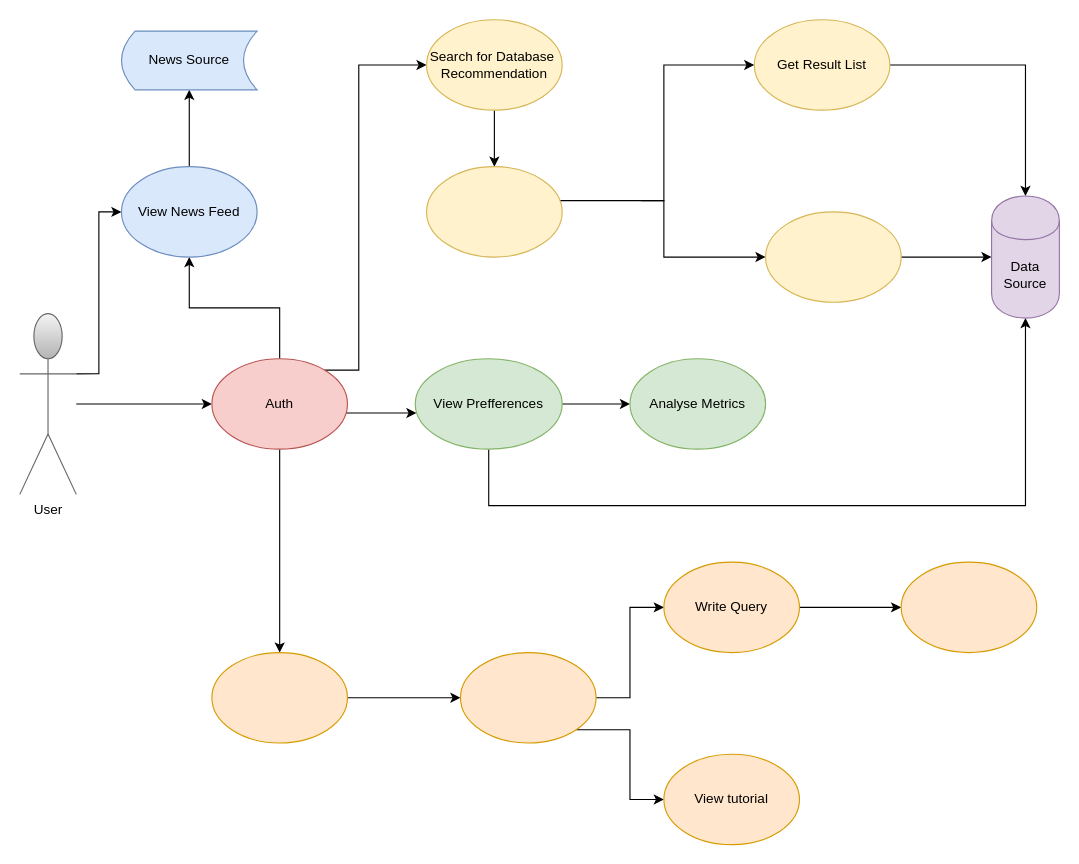
This 1079x864 diagram has some shape labels left out. The centre of each missing label's shape, as x and y in pixels:
"Analyse result" goes at point (968, 607).
"Choose Database" goes at point (527, 697).
"Compare Responses" goes at point (832, 256).
"Complete Form" goes at point (493, 211).
"Try on" goes at point (279, 697).
